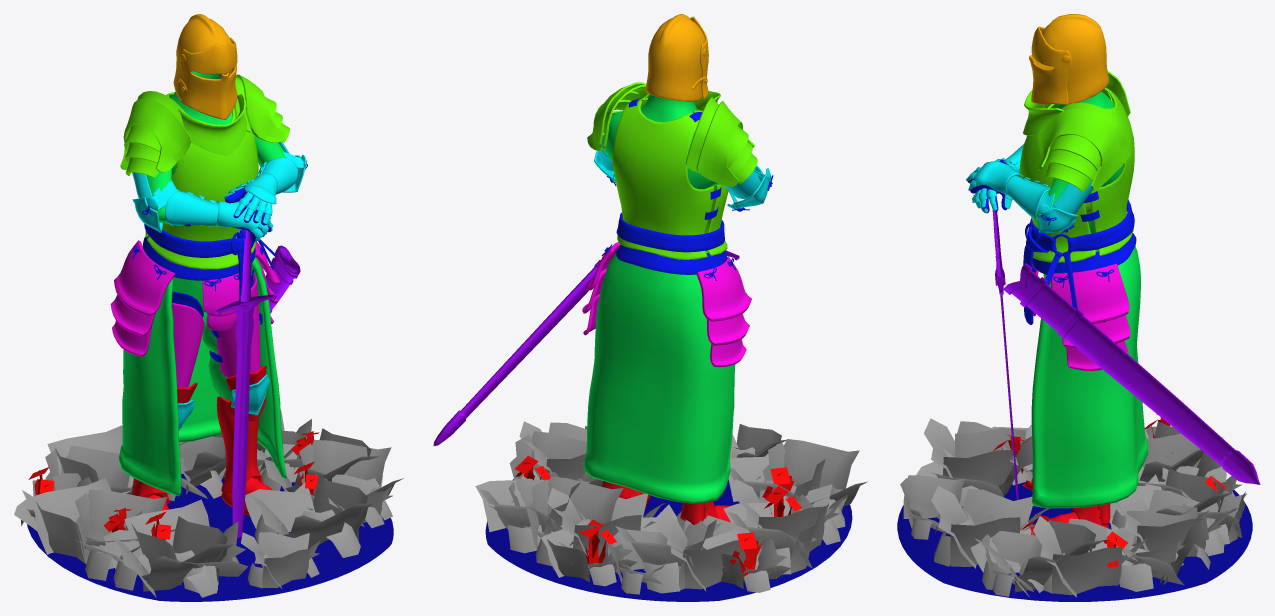
File: KnightPose2.fbx
3 renders of one model, left to right at view 1: azimuth 30°, elevation 25°; view 2: azimuth 150°, elevation 25°; view 3: azimuth 270°, elevation 25°, orthographic.
Visible parts, largest first — view 1: flower010, Mannequin:Box001bdfbdf001, Mannequin:Box013, flower011, flower, Mannequin:Box001xcsa001, Box001, Mannequin:Object001cc001, Mannequin:Object001ccc, Mannequin:Box001cc001, Mannequin:Object008, Mannequin:Object011; view 2: Mannequin:Box001bdfbdf001, Mannequin:Box013, flower011, flower, flower010, Box001, Mannequin:Box001xcsa001, Mannequin:Box001cc001, Mannequin:Object008, Mannequin:Object001ccc, Mannequin:Object001cc001, Mannequin:Object011 (+3 smaller); view 3: flower010, Mannequin:Box001bdfbdf001, Mannequin:Box013, flower011, Mannequin:Object001ccc, flower, Box001, Mannequin:Box001cc001, Mannequin:Object008, Mannequin:Object001cc001, Mannequin:Box001xcsa001, Mannequin:Object011.
Part boxes in pixels (box(x1,y1,x2,y2)): flower010: box(103, 428, 392, 597); Mannequin:Box001bdfbdf001: box(118, 71, 286, 496); Mannequin:Box013: box(120, 74, 289, 269); flower011: box(14, 410, 311, 592); flower: box(45, 430, 403, 580); Mannequin:Box001xcsa001: box(110, 240, 279, 387); Box001: box(27, 474, 393, 601); Mannequin:Object001cc001: box(132, 141, 306, 430); Mannequin:Object001ccc: box(215, 230, 300, 538); Mannequin:Box001cc001: box(173, 14, 237, 119); Mannequin:Object008: box(132, 164, 307, 362); Mannequin:Object011: box(132, 365, 271, 515); Mannequin:Box001bdfbdf001: box(583, 94, 760, 503); Mannequin:Box013: box(587, 82, 757, 259); flower011: box(475, 444, 833, 593); flower: box(508, 421, 848, 594); flower010: box(507, 424, 867, 566); Box001: box(485, 479, 852, 601); Mannequin:Box001xcsa001: box(582, 242, 751, 367); Mannequin:Box001cc001: box(645, 14, 708, 101); Mannequin:Object008: box(601, 98, 773, 280); Mannequin:Object001ccc: box(433, 250, 739, 446); Mannequin:Object001cc001: box(594, 136, 770, 209); Mannequin:Object011: box(602, 481, 731, 524); flower010: box(900, 418, 1238, 597); Mannequin:Box001bdfbdf001: box(1031, 91, 1148, 508); Mannequin:Box013: box(1019, 71, 1134, 262); flower011: box(916, 421, 1247, 591); Mannequin:Object001ccc: box(992, 210, 1260, 500); flower: box(970, 421, 1241, 597); Box001: box(897, 482, 1252, 601); Mannequin:Box001cc001: box(1029, 14, 1109, 104); Mannequin:Object008: box(967, 159, 1136, 324); Mannequin:Object001cc001: box(966, 135, 1092, 232); Mannequin:Box001xcsa001: box(1032, 263, 1130, 370); Mannequin:Object011: box(1022, 478, 1110, 535).
Size of the model in its own units: 121 by 196 by 118.
